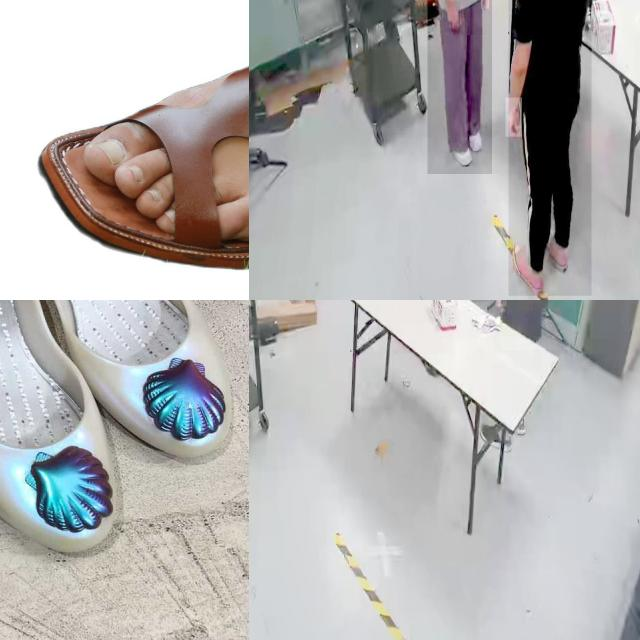Sandals: (0, 300, 249, 574), (35, 27, 249, 269)
hand_noglove: (506, 98, 522, 138), (444, 1, 460, 34), (480, 0, 489, 9), (495, 300, 506, 307)
person: (508, 0, 591, 296), (427, 0, 492, 174)
shoes: (510, 239, 549, 297), (541, 226, 570, 272), (478, 418, 512, 452)
